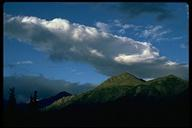cloud: (5, 9, 173, 69)
mountain: (5, 67, 186, 120)
sky: (5, 3, 188, 71)
